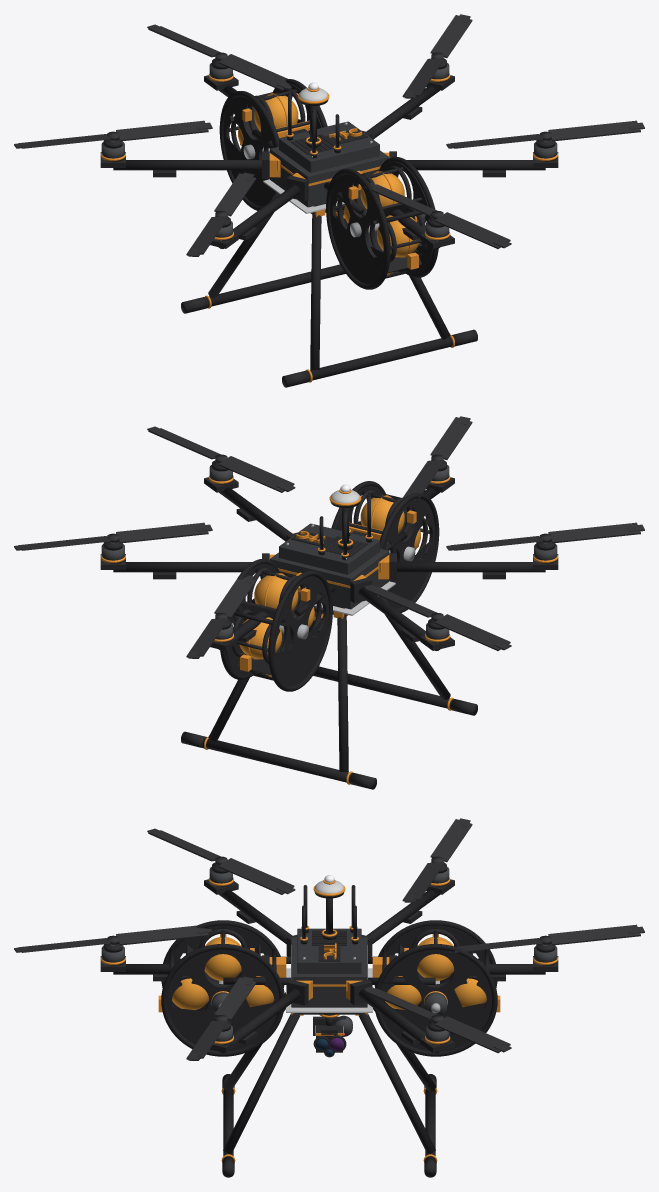
Rendered from JamraDrone.fbx.
3 views of the same model, one above another, from view 1: azimuth 30°, elevation 25°; view 2: azimuth 150°, elevation 25°; view 3: azimuth 270°, elevation 25° (orthographic).
Parts seen in each view (by area): view 1: Drum_Plate_In_L, Drum_Plate_In_R, Body_TopCap, Body_Shell, Prop_3, Prop_6, Prop_5, Prop_2, Skid_L, Prop_1, Prop_4, Leg_4 (+14 smaller); view 2: Drum_Plate_In_R, Drum_Plate_In_L, Body_TopCap, Body_Shell, Prop_1, Prop_4, Prop_6, Prop_3, Skid_R, Prop_2, Leg_3, Guard_Ring_In_R (+13 smaller); view 3: Drum_Plate_Out_L, Drum_Plate_Out_R, Body_Shell, Guard_Ring_Out_L, Body_TopCap, Guard_Ring_Out_R, Prop_5, Prop_2, Prop_4, Prop_1, Prop_3, Prop_6 (+20 smaller).
Boxes of the visible parts, x1=… form: Drum_Plate_In_L: x1=330, y1=174, x2=384, y2=284; Drum_Plate_In_R: x1=223, y1=96, x2=276, y2=206; Body_TopCap: x1=279, y1=121, x2=379, y2=172; Body_Shell: x1=270, y1=146, x2=388, y2=207; Prop_3: x1=14, y1=120, x2=212, y2=148; Prop_6: x1=446, y1=120, x2=644, y2=148; Prop_5: x1=363, y1=183, x2=511, y2=248; Prop_2: x1=147, y1=24, x2=291, y2=90; Skid_L: x1=282, y1=335, x2=456, y2=386; Prop_1: x1=402, y1=14, x2=472, y2=98; Prop_4: x1=186, y1=172, x2=256, y2=256; Leg_4: x1=310, y1=212, x2=321, y2=369; Drum_Plate_In_R: x1=274, y1=576, x2=328, y2=686; Drum_Plate_In_L: x1=383, y1=498, x2=435, y2=608; Body_TopCap: x1=279, y1=523, x2=379, y2=574; Body_Shell: x1=270, y1=548, x2=388, y2=609; Prop_1: x1=14, y1=522, x2=212, y2=550; Prop_4: x1=446, y1=522, x2=644, y2=550; Prop_6: x1=147, y1=426, x2=295, y2=492; Prop_3: x1=363, y1=584, x2=511, y2=650; Skid_R: x1=202, y1=737, x2=376, y2=788; Prop_2: x1=186, y1=575, x2=256, y2=658; Leg_3: x1=337, y1=614, x2=348, y2=771; Guard_Ring_In_R: x1=268, y1=570, x2=332, y2=691; Drum_Plate_Out_L: x1=167, y1=949, x2=279, y2=1051; Drum_Plate_Out_R: x1=380, y1=949, x2=491, y2=1051; Body_Shell: x1=291, y1=937, x2=367, y2=1007; Guard_Ring_Out_L: x1=161, y1=944, x2=284, y2=1056; Body_TopCap: x1=297, y1=928, x2=361, y2=973; Guard_Ring_Out_R: x1=374, y1=944, x2=497, y2=1056; Prop_5: x1=14, y1=925, x2=211, y2=952; Prop_2: x1=448, y1=924, x2=644, y2=952; Prop_4: x1=147, y1=828, x2=295, y2=894; Prop_1: x1=363, y1=987, x2=511, y2=1053; Prop_3: x1=402, y1=818, x2=472, y2=902; Prop_6: x1=186, y1=976, x2=256, y2=1060.
Size of the model in its own units: 1.61 by 0.7738 by 1.78.
